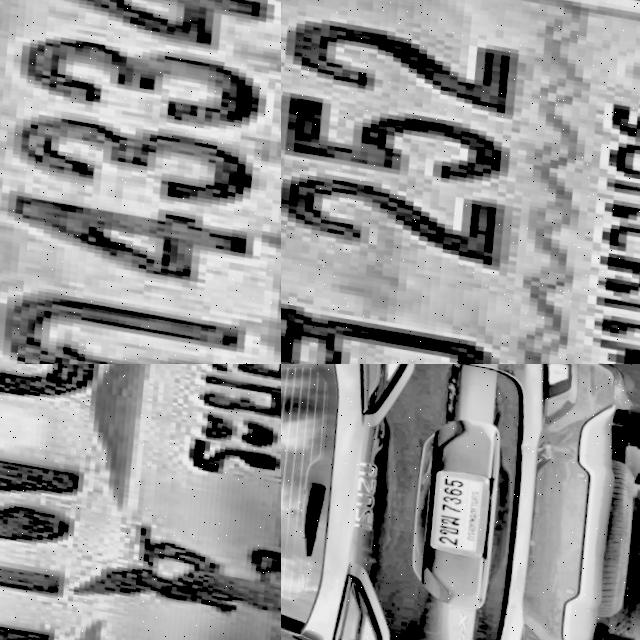license-plate: (281, 0, 640, 364), (0, 0, 281, 364), (0, 364, 281, 640), (416, 460, 503, 560)
